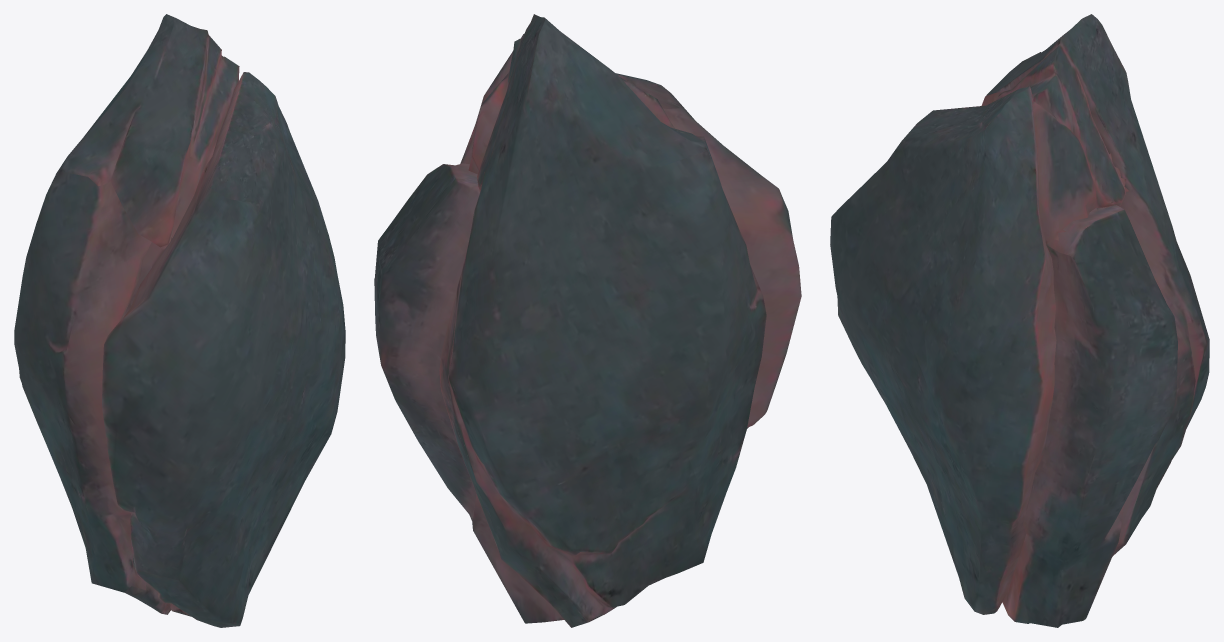
3 views of the same model, side by side, from view 1: azimuth 30°, elevation 25°; view 2: azimuth 150°, elevation 25°; view 3: azimuth 270°, elevation 25° (orthographic). The views are drawn at different scales.
Visible parts, largest first — view 1: SM_VaultGuardian_EarthJavelin_LOD0; view 2: SM_VaultGuardian_EarthJavelin_LOD0; view 3: SM_VaultGuardian_EarthJavelin_LOD0.
Boxes of the visible parts, x1,y1,x2,y2 form: SM_VaultGuardian_EarthJavelin_LOD0: (14, 14, 345, 627); SM_VaultGuardian_EarthJavelin_LOD0: (374, 14, 801, 627); SM_VaultGuardian_EarthJavelin_LOD0: (830, 14, 1209, 627).
Bounding box in the file's own units: 2.91 × 5.14 × 2.95.
1 material, 1 textured.
